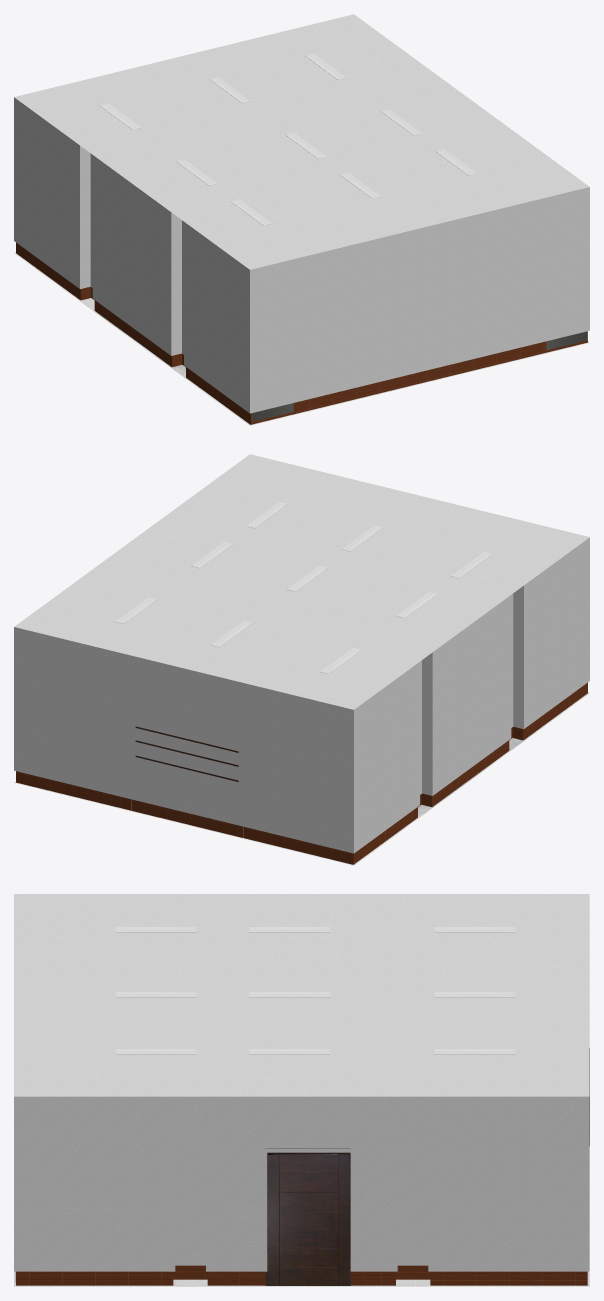
The model's file is liboratory.fbx.
3 views of the same model, one above another, from view 1: azimuth 30°, elevation 25°; view 2: azimuth 150°, elevation 25°; view 3: azimuth 270°, elevation 25° (orthographic). The views are drawn at different scales.
Parts seen in each view (by area): view 1: Cube; view 2: Cube; view 3: Cube, Cube.024, Cube.025.
Boxes of the visible parts, box(x1,y1,x2,y2) form: Cube: box(14, 14, 589, 425); Cube: box(14, 454, 589, 865); Cube: box(14, 894, 589, 1286); Cube.024: box(268, 1154, 348, 1285); Cube.025: box(265, 1148, 350, 1285).
Bounding box in the file's own units: 820 × 362 × 984.
Materials: 14 (12 with a texture image).
